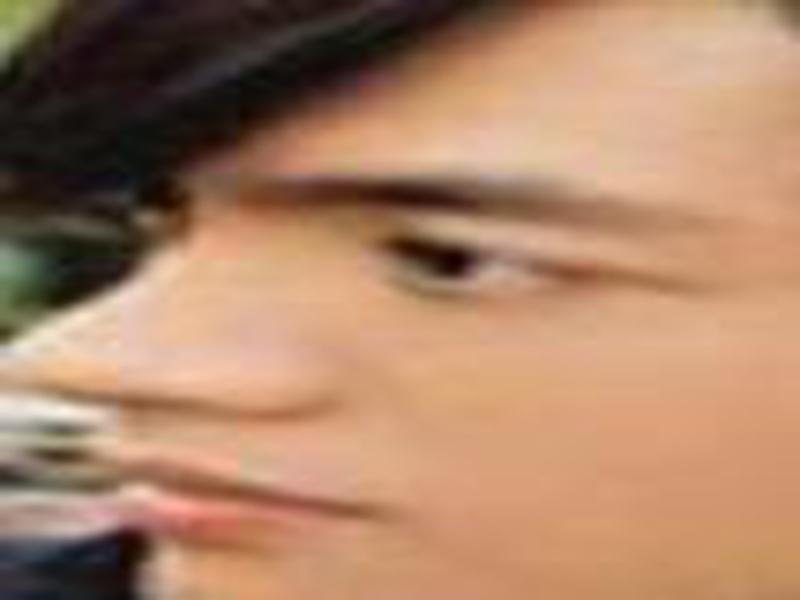without_mask: (8, 12, 800, 600)
